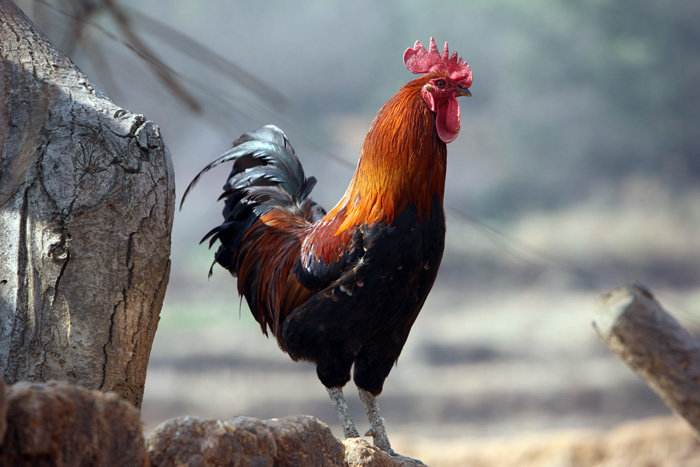chicken: (164, 30, 528, 459)
